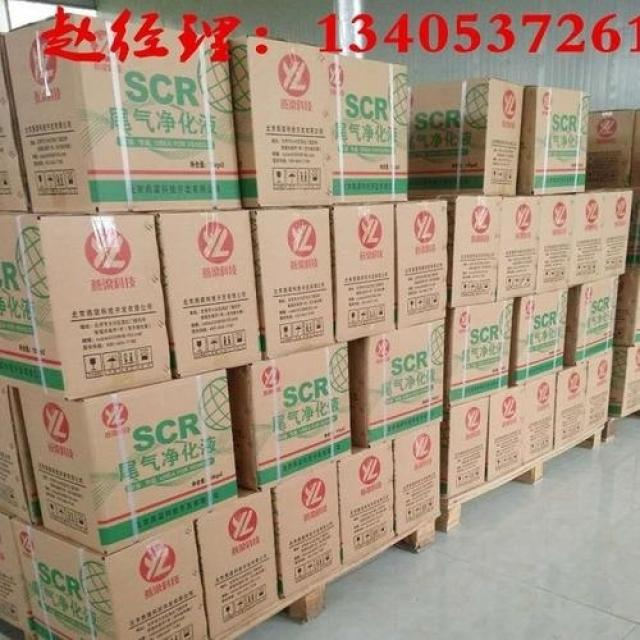box: (3, 12, 242, 214), (17, 369, 238, 556), (0, 209, 173, 402), (228, 36, 408, 209), (9, 517, 209, 639), (227, 342, 353, 492), (155, 210, 262, 379), (408, 78, 525, 196), (193, 484, 280, 639), (251, 205, 334, 358), (349, 319, 445, 447), (273, 461, 343, 603), (329, 201, 397, 343), (517, 87, 589, 196), (444, 300, 515, 407), (338, 436, 396, 566), (394, 198, 447, 332), (447, 197, 502, 308), (0, 383, 41, 527), (393, 421, 442, 539), (509, 288, 567, 387), (0, 33, 31, 211), (564, 275, 621, 367), (440, 393, 489, 499), (495, 196, 540, 303), (0, 509, 36, 639), (585, 109, 635, 191), (535, 195, 576, 293), (486, 384, 525, 484), (567, 191, 604, 288), (598, 189, 634, 280), (554, 361, 588, 452), (524, 372, 557, 463), (585, 349, 613, 436), (609, 347, 640, 419), (613, 274, 640, 348), (626, 189, 640, 275), (628, 109, 640, 189)
